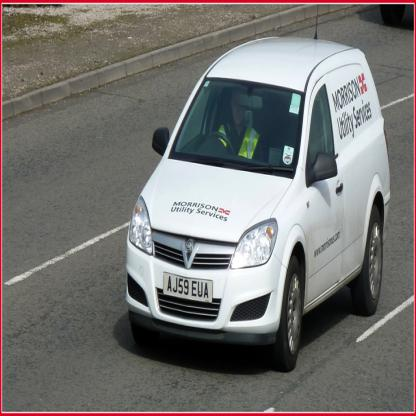Car: (119, 40, 388, 366)
